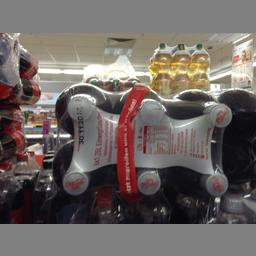soda: (53, 81, 232, 198), (148, 42, 172, 94), (188, 41, 210, 89), (170, 42, 191, 87)
